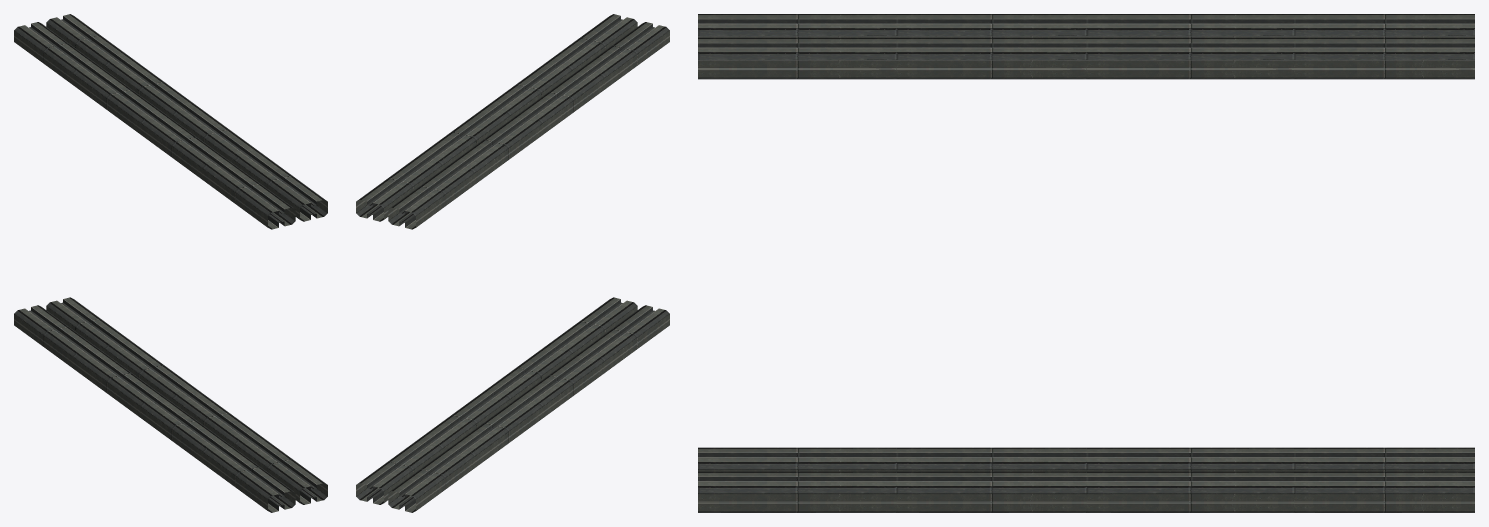
Rendered from TallWindowFrame_1x6.FBX.
3 views of the same model, side by side, from view 1: azimuth 30°, elevation 25°; view 2: azimuth 150°, elevation 25°; view 3: azimuth 270°, elevation 25° (orthographic). The views are drawn at different scales.
Parts seen in each view (by area): view 1: TallWindowFrame_1x6; view 2: TallWindowFrame_1x6; view 3: TallWindowFrame_1x6.
Boxes of the visible parts, <box> form: TallWindowFrame_1x6: <box>14,14,327,512</box>; TallWindowFrame_1x6: <box>356,14,669,512</box>; TallWindowFrame_1x6: <box>698,14,1474,512</box>.
Size of the model in its own units: 0.8183 by 3.92 by 6.
